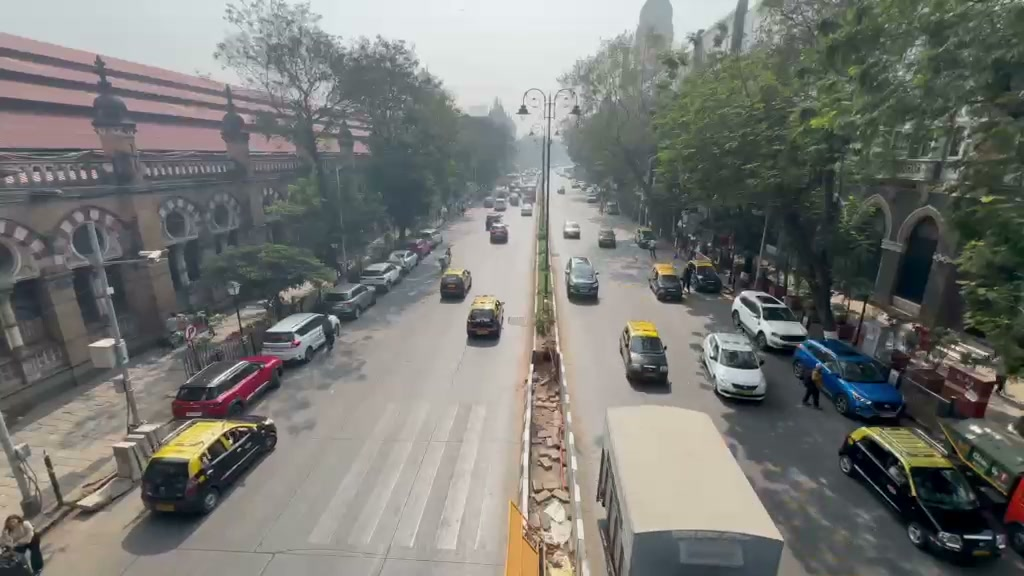bus: (594, 405, 787, 573)
car: (836, 422, 1007, 565), (140, 418, 278, 517), (792, 336, 907, 422), (171, 353, 283, 419), (701, 331, 769, 403), (730, 291, 810, 351), (260, 311, 341, 366), (618, 319, 671, 387), (313, 281, 376, 321), (466, 294, 503, 342), (565, 255, 600, 304), (358, 261, 403, 294), (649, 265, 684, 302), (440, 269, 472, 302), (687, 266, 723, 293), (387, 249, 419, 271), (409, 233, 436, 256), (486, 219, 509, 244), (597, 228, 616, 249), (563, 221, 582, 239)
pedestrian: (804, 368, 822, 408)
truck: (937, 417, 1024, 506)
